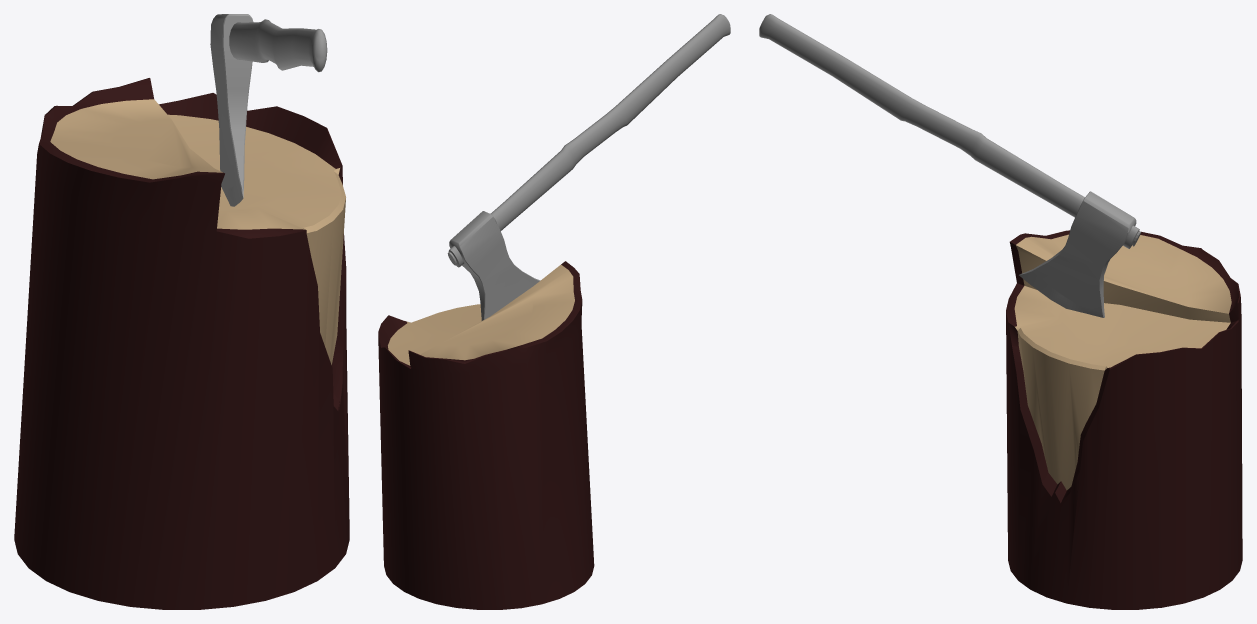
3 views of the same model, side by side, from view 1: azimuth 30°, elevation 25°; view 2: azimuth 150°, elevation 25°; view 3: azimuth 270°, elevation 25° (orthographic). The views are drawn at different scales.
Visible parts, largest first — view 1: Object003, Cylinder003; view 2: Object003, Cylinder003; view 3: Object003, Cylinder003.
Boxes of the visible parts, box(x1,y1,x2,y2) form: Object003: box(14, 78, 349, 609); Cylinder003: box(210, 14, 327, 206); Object003: box(378, 261, 594, 609); Cylinder003: box(447, 14, 730, 320); Object003: box(1006, 230, 1242, 609); Cylinder003: box(759, 14, 1141, 317).
Bounding box in the file's own units: 408 × 947 × 818.
